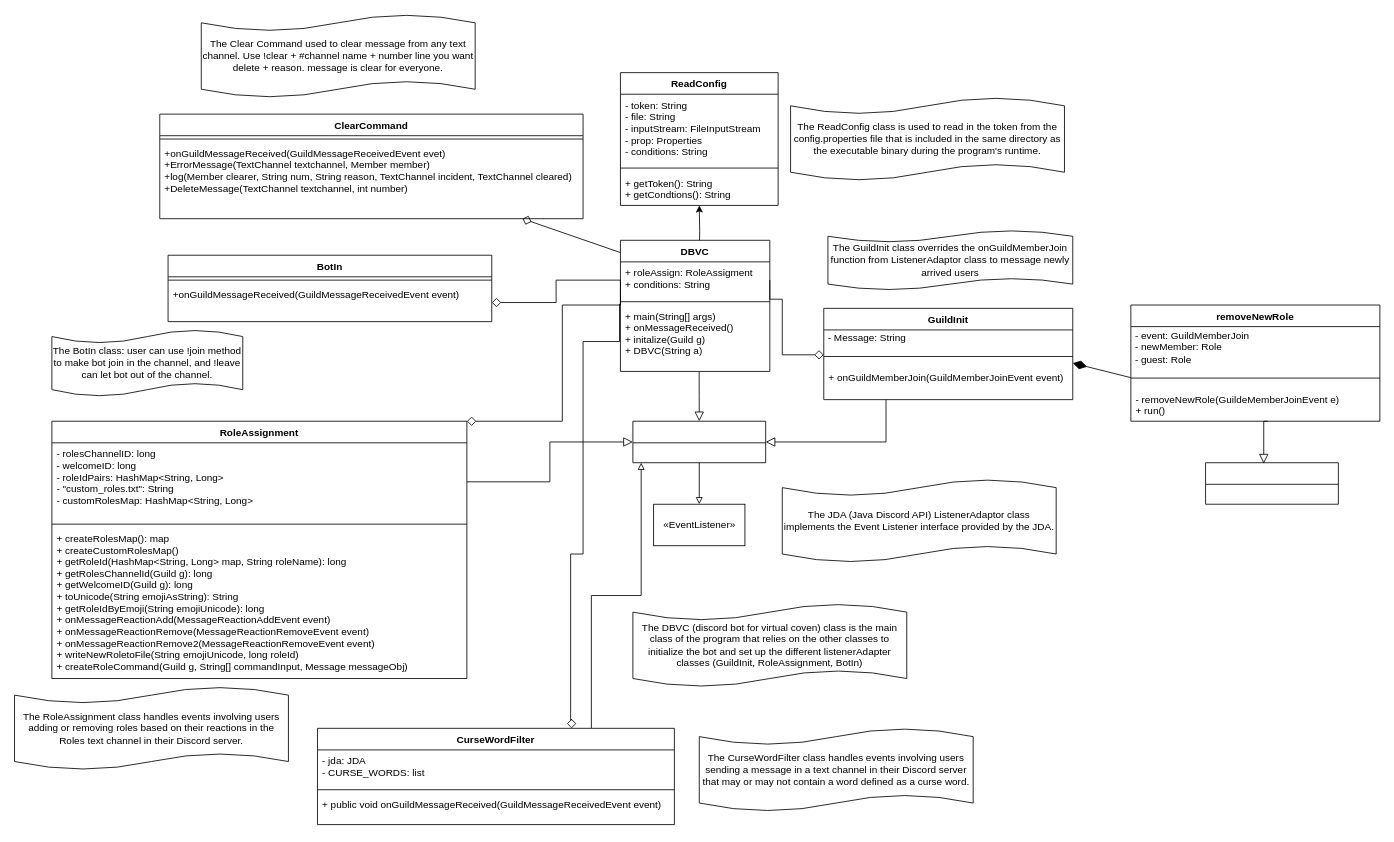
The diagram is 1394 pixels wide and 842 high, and some of its shapes have lost their labels. Each missing label, with the centre of its shape:
"ListenerAdapter" goes at point (699, 441).
"TimerTask" goes at point (1271, 483).
